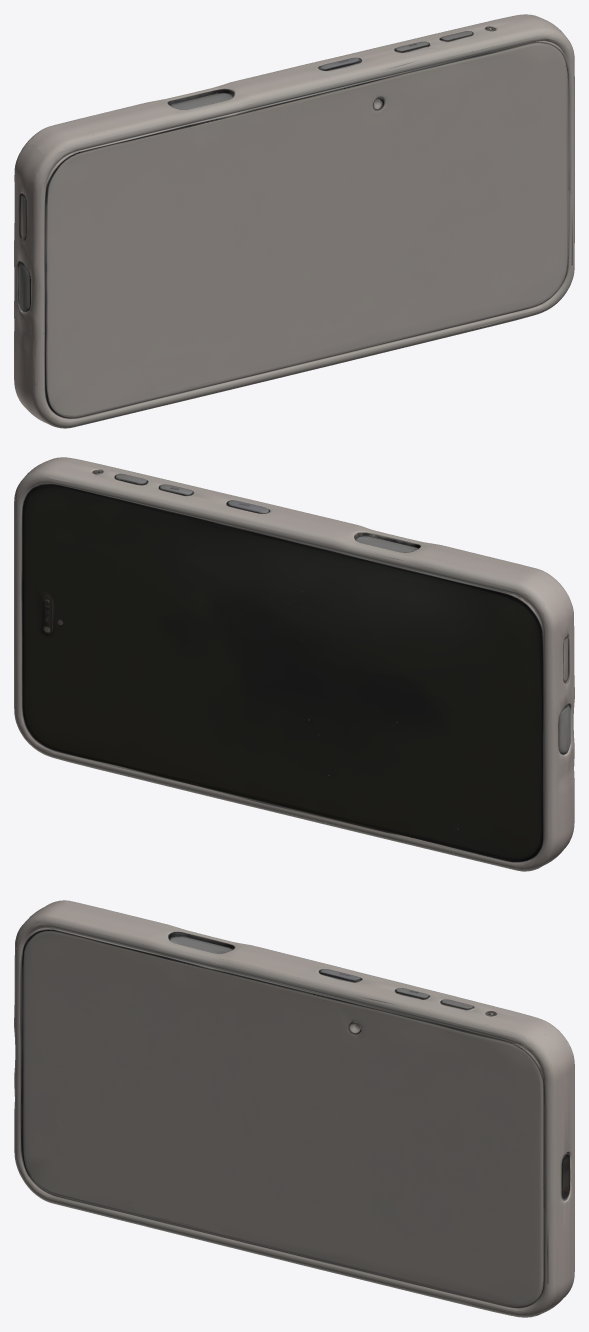
The model's file is phone.fbx.
3 views of the same model, one above another, from view 1: azimuth 30°, elevation 25°; view 2: azimuth 150°, elevation 25°; view 3: azimuth 330°, elevation 25° (orthographic).
Parts seen in each view (by area): view 1: node_0; view 2: node_0; view 3: node_0.
Boxes of the visible parts, left/top/right/bottom form: node_0: left=14, top=14, right=574, bottom=428; node_0: left=14, top=457, right=574, bottom=871; node_0: left=14, top=900, right=574, bottom=1317.
Bounding box in the file's own units: 16.54 × 8.48 × 1.34.
1 material, 1 textured.
